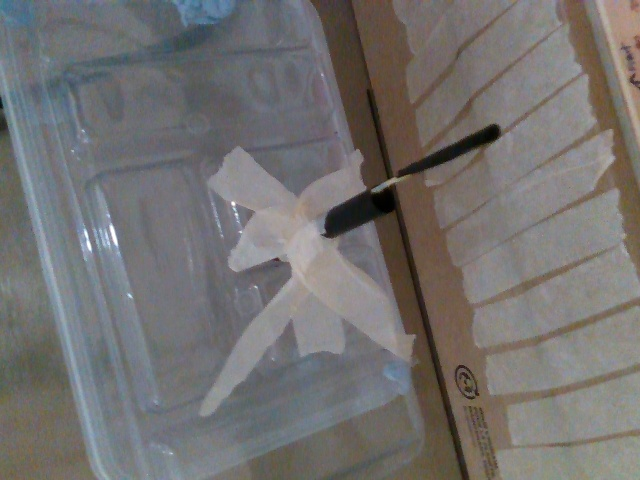test_strip: (371, 123, 503, 195)
